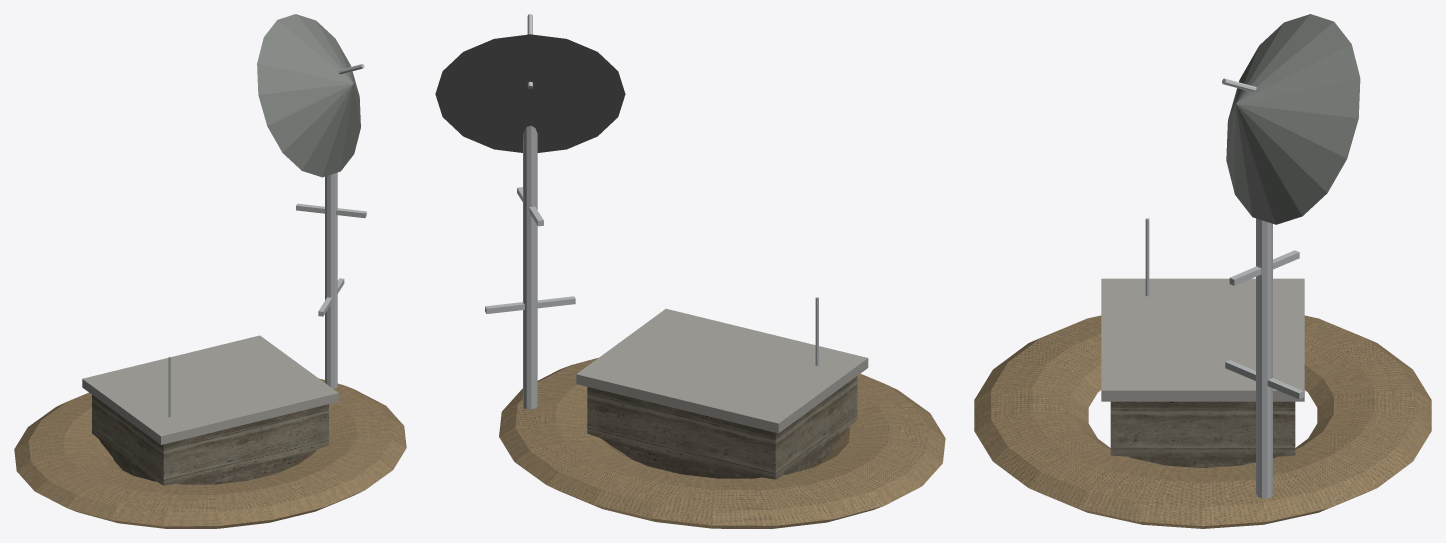
The model's file is structures.radar-station.glb.
The picture shows the model from 3 angles, left to right: view 1: azimuth 30°, elevation 25°; view 2: azimuth 150°, elevation 25°; view 3: azimuth 270°, elevation 25°; orthographic projection. The views are drawn at different scales.
Visible parts, largest first — view 1: ring.7, hut.roof.1, dish.5, hut.0, mast.2, mast.cross.b.4; view 2: ring.7, hut.roof.1, dish.5, hut.0, mast.2, mast.cross.a.3; view 3: ring.7, hut.roof.1, dish.5, hut.0, mast.2, mast.cross.a.3, mast.cross.b.4.
Boxes of the visible parts, x1=… form: ring.7: x1=14, y1=378, x2=406, y2=528; hut.roof.1: x1=82, y1=335, x2=338, y2=444; dish.5: x1=257, y1=14, x2=360, y2=177; hut.0: x1=92, y1=395, x2=328, y2=485; mast.2: x1=325, y1=172, x2=337, y2=388; mast.cross.b.4: x1=296, y1=203, x2=366, y2=218; ring.7: x1=499, y1=357, x2=945, y2=528; hut.roof.1: x1=576, y1=308, x2=868, y2=433; dish.5: x1=435, y1=34, x2=625, y2=152; hut.0: x1=587, y1=376, x2=857, y2=479; mast.2: x1=523, y1=125, x2=537, y2=409; mast.cross.a.3: x1=485, y1=296, x2=575, y2=313; ring.7: x1=974, y1=315, x2=1431, y2=528; hut.roof.1: x1=1101, y1=278, x2=1304, y2=401; dish.5: x1=1226, y1=14, x2=1360, y2=224; hut.0: x1=1110, y1=401, x2=1295, y2=467; mast.2: x1=1256, y1=218, x2=1272, y2=498; mast.cross.a.3: x1=1225, y1=360, x2=1303, y2=399; mast.cross.b.4: x1=1229, y1=250, x2=1299, y2=285.
Bounding box in the file's own units: 18.05 × 17.32 × 14.85.
Materials: 5 (2 with a texture image).
